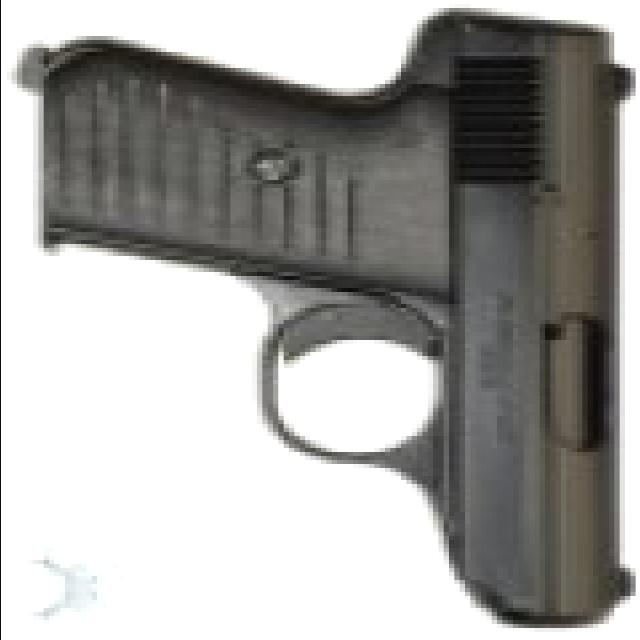handgun: (32, 24, 618, 624)
